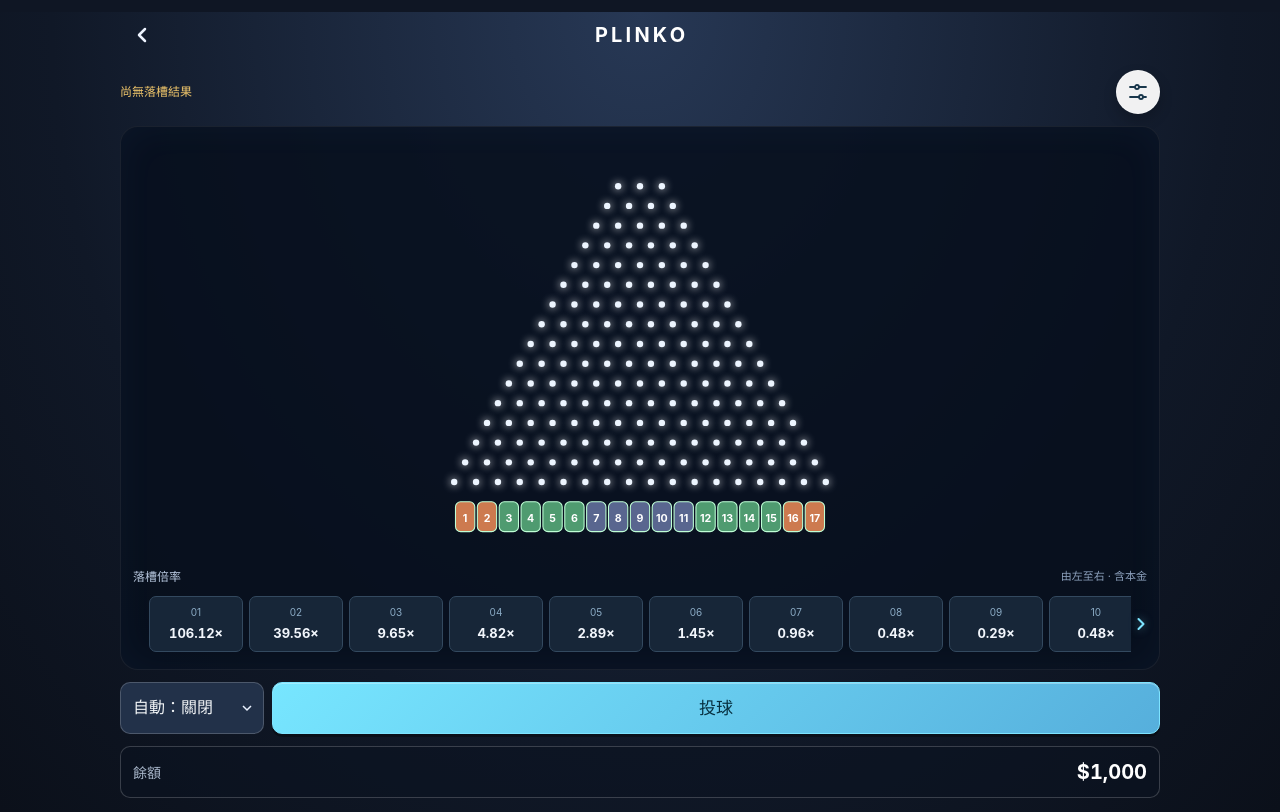
Test case: PlinkoView › stops auto play on network failure
Step 1. Select "30 球" in the dropdown named "自動投球" → (192, 708), box x1=120 y1=682 x2=264 y2=734
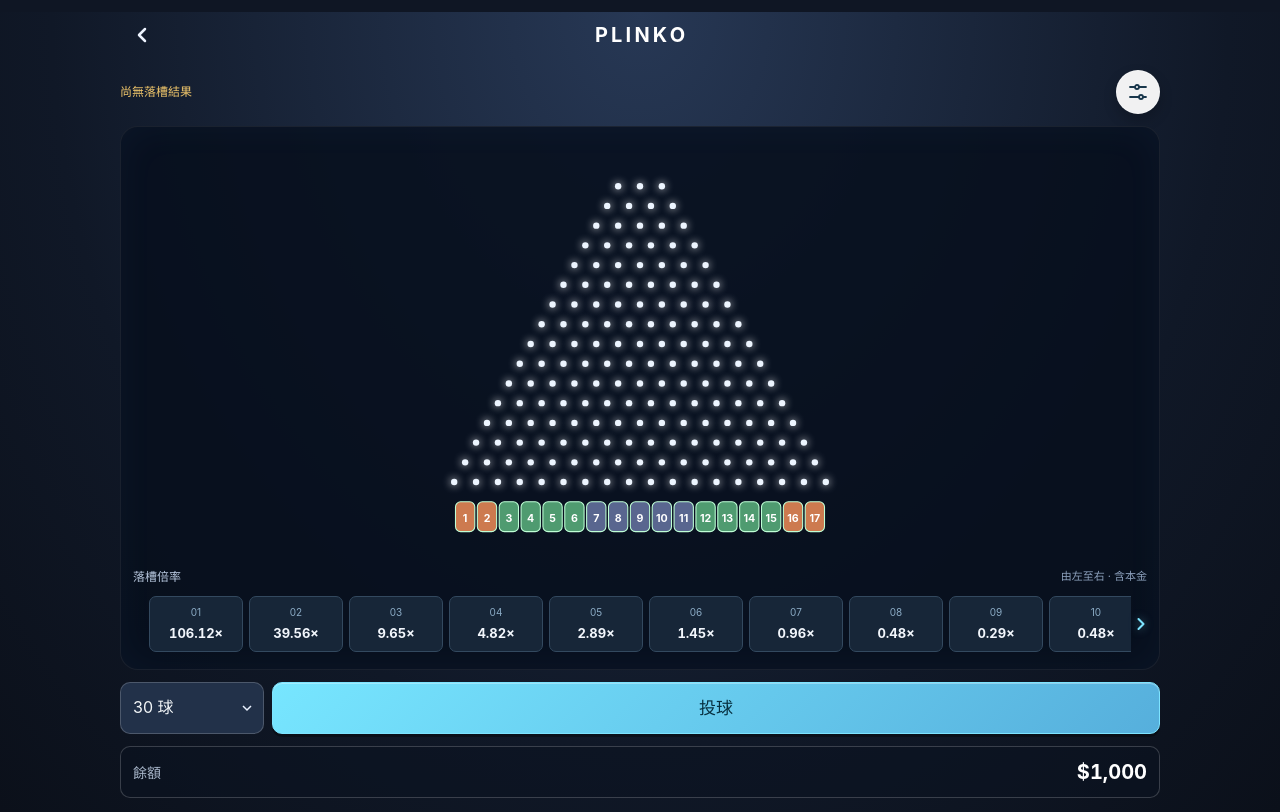
Step 2. Click the button "投球" → (716, 708), box x1=272 y1=682 x2=1160 y2=734
Wait 5000 ms
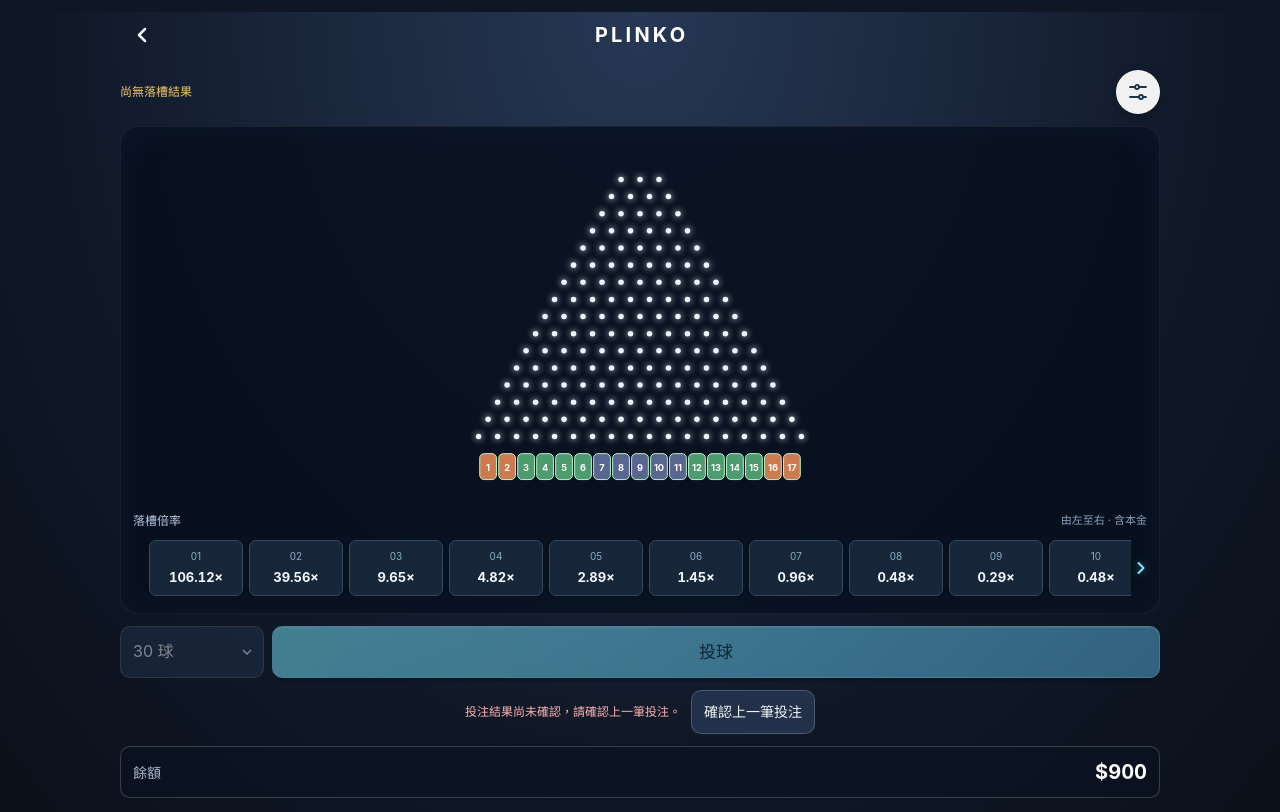
Check: the button "投球" is shown, box x1=272 y1=626 x2=1160 y2=678
Check: the button "投球" is disabled, box x1=272 y1=626 x2=1160 y2=678
